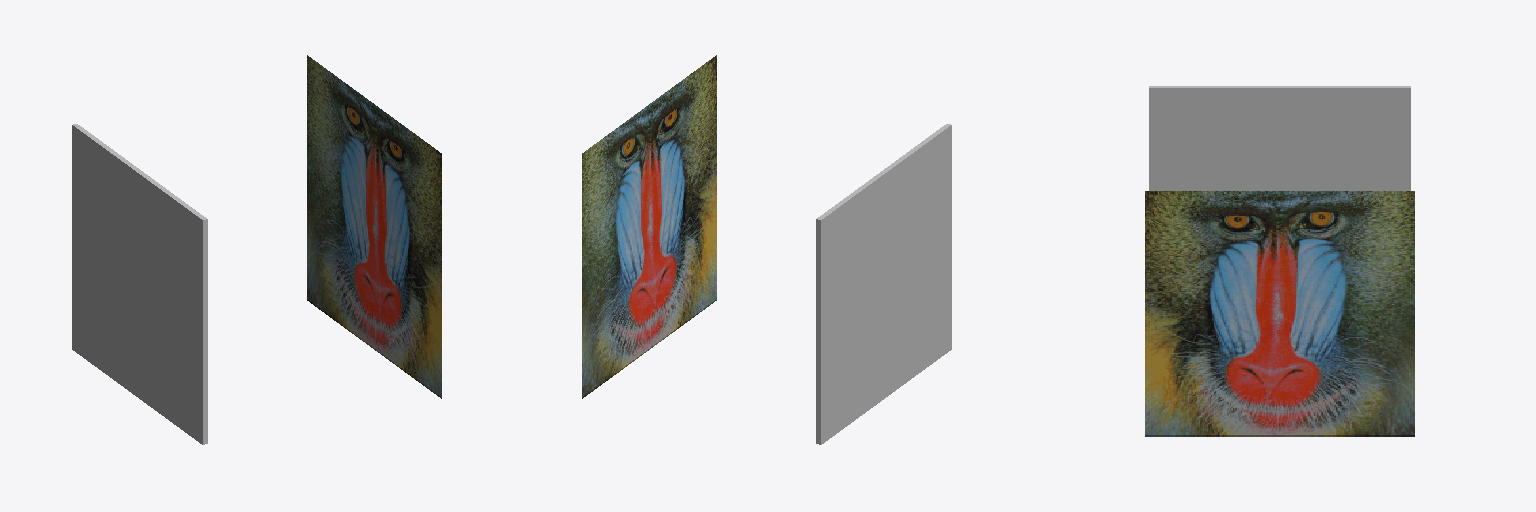
3 views of the same model, side by side, from view 1: azimuth 30°, elevation 25°; view 2: azimuth 150°, elevation 25°; view 3: azimuth 270°, elevation 25° (orthographic).
Visible parts, largest first — view 1: mandrill_std, Cube; view 2: mandrill_std, Cube; view 3: mandrill_std, Cube.
Boxes of the visible parts, <box> form: mandrill_std: <box>307,55,441,398</box>; Cube: <box>72,124,207,444</box>; mandrill_std: <box>582,55,716,398</box>; Cube: <box>816,124,951,444</box>; mandrill_std: <box>1145,191,1414,436</box>; Cube: <box>1149,86,1410,190</box>.
Size of the model in its own units: 1.01 by 1 by 1.
2 materials, 1 textured.